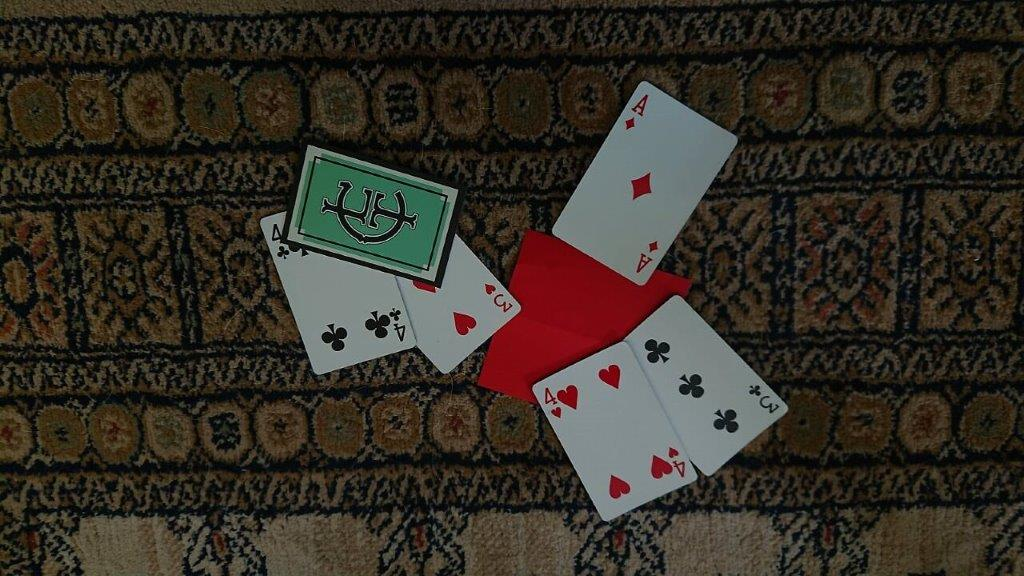4C: (267, 220, 291, 262)
4H: (541, 384, 564, 422)
AD: (622, 92, 651, 132)
